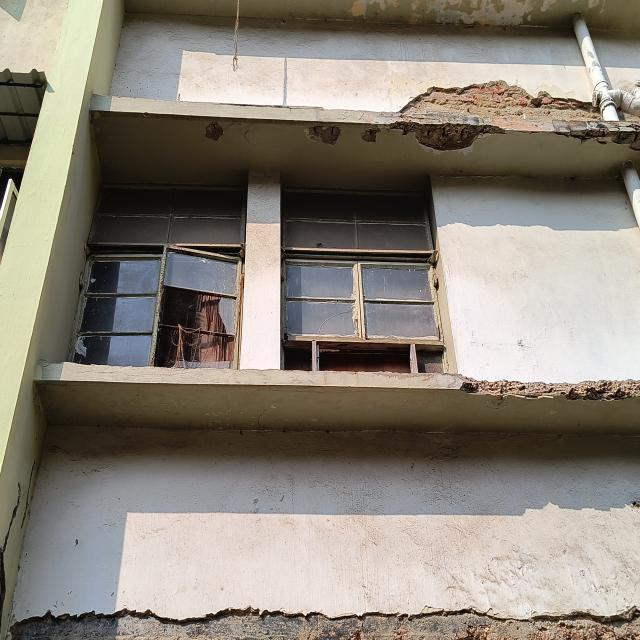Broken window pane: (61, 175, 248, 374), (279, 175, 459, 373)
Crack: (1, 479, 22, 631)
Paint Peeling: (403, 0, 611, 26), (348, 0, 400, 20)
Scaling: (12, 609, 640, 640), (305, 125, 341, 145), (205, 122, 223, 141), (361, 128, 380, 142)
Spalling: (390, 80, 640, 151), (461, 378, 640, 401)
